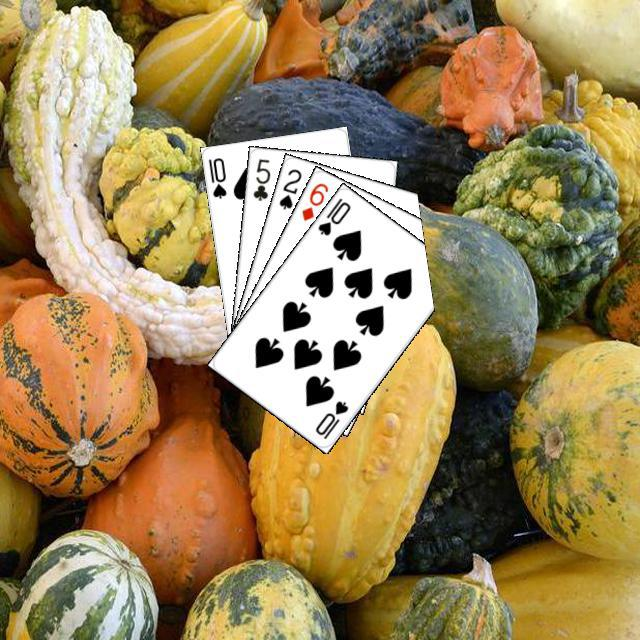10s: (310, 395, 350, 441), (313, 193, 352, 237), (203, 153, 228, 200)
2s: (274, 164, 303, 211)
5c: (248, 154, 272, 202)
6d: (297, 178, 330, 223)
